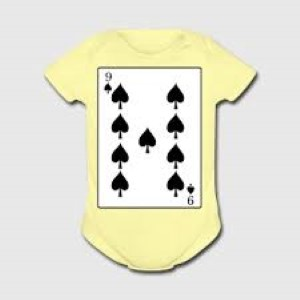NineOfSpades: (94, 60, 206, 216)
